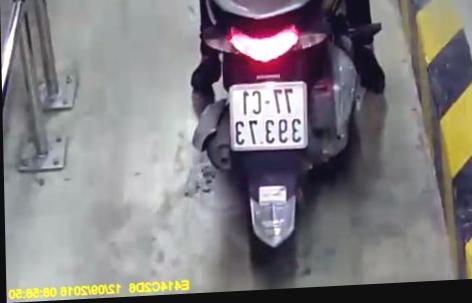License_Plate: (219, 76, 313, 158)
